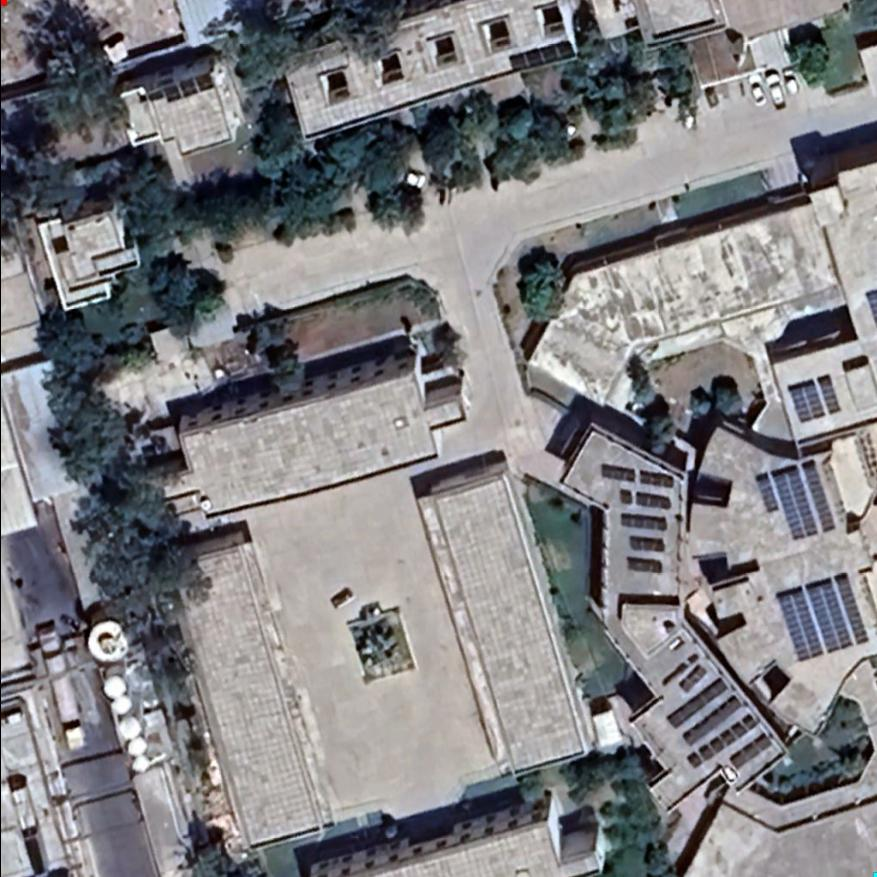Solarpanel: (772, 572, 866, 666), (750, 459, 838, 543), (684, 711, 762, 771), (663, 676, 728, 730), (679, 695, 741, 747), (786, 374, 840, 425), (725, 732, 776, 770), (676, 662, 710, 695), (620, 513, 669, 532), (598, 462, 635, 484), (633, 490, 670, 511), (638, 469, 673, 487), (628, 535, 665, 552), (625, 556, 662, 573), (617, 487, 631, 505)
